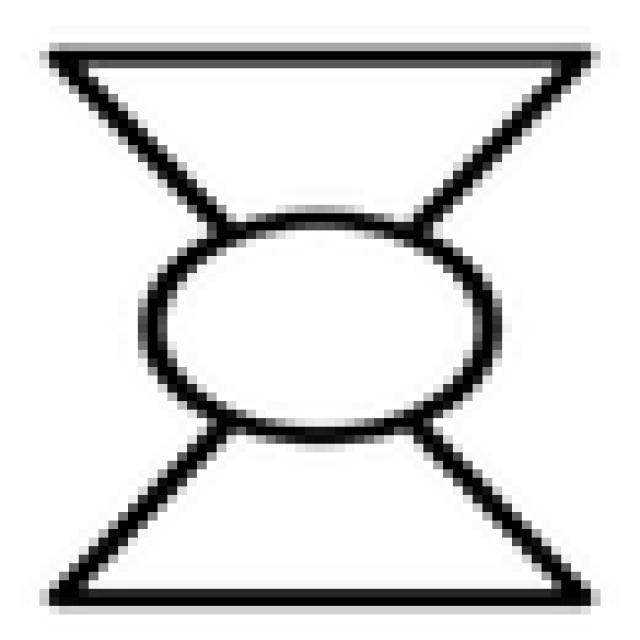ball valve: (54, 56, 593, 605)
